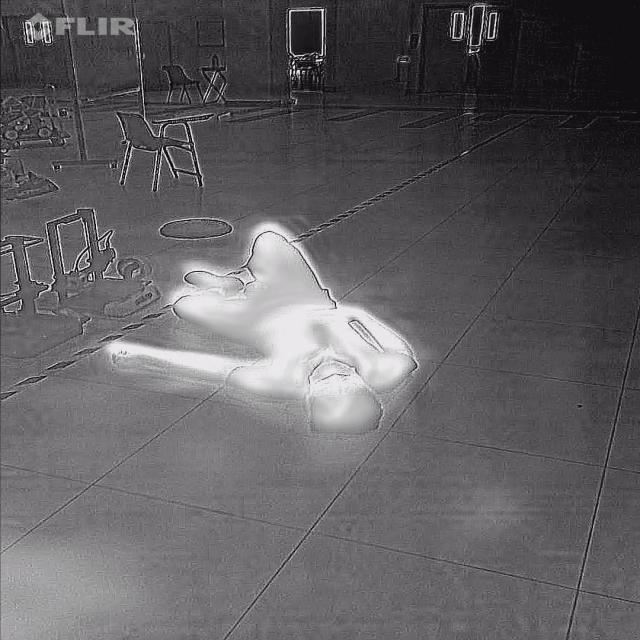Victim: (88, 222, 427, 447)
